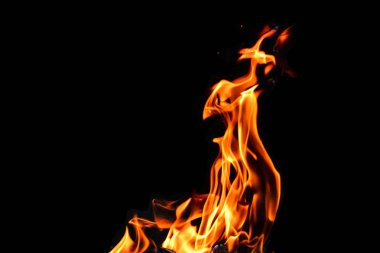fire: (202, 44, 288, 247), (120, 187, 195, 248)
